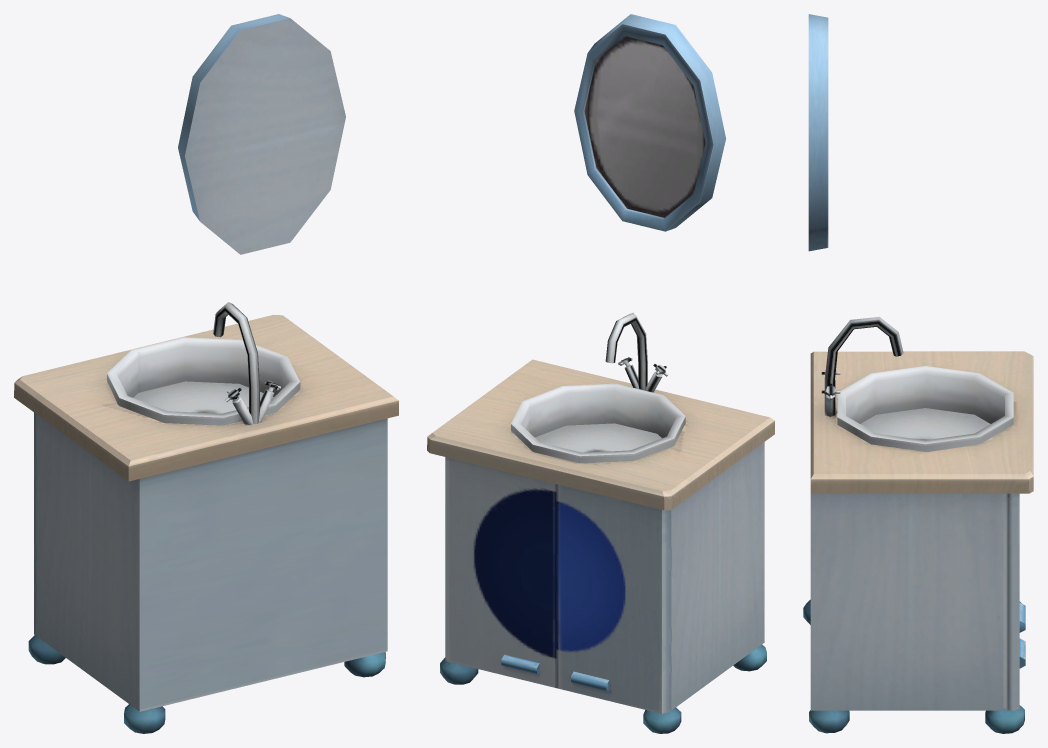
Rendered from furni_0200525.FBX.
3 renders of one model, left to right at view 1: azimuth 30°, elevation 25°; view 2: azimuth 150°, elevation 25°; view 3: azimuth 270°, elevation 25°, orthographic. The views are drawn at different scales.
Visible parts, largest first — view 1: furni_0200525; view 2: furni_0200525; view 3: furni_0200525.
Boxes of the visible parts, box(x1,y1,x2,y2) form: furni_0200525: box(14, 14, 398, 733); furni_0200525: box(427, 14, 774, 733); furni_0200525: box(803, 14, 1033, 733).
Bounding box in the file's own units: 80.26 × 193 × 62.09.
Materials: 1 (1 with a texture image).
